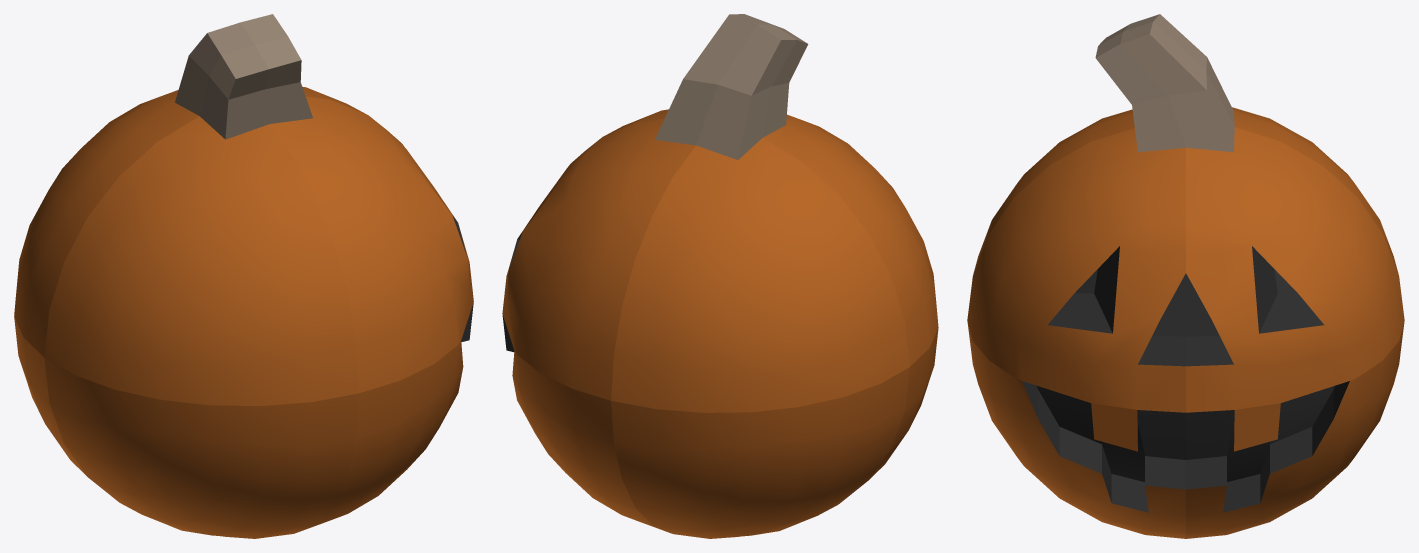
Rendered from Pumpkin.fbx.
3 views of the same model, side by side, from view 1: azimuth 30°, elevation 25°; view 2: azimuth 150°, elevation 25°; view 3: azimuth 270°, elevation 25° (orthographic). The views are drawn at different scales.
Parts seen in each view (by area): view 1: pCube35; view 2: pCube35; view 3: pCube35.
Part boxes in pixels (box(x1,y1,x2,y2)): pCube35: box(14, 14, 473, 538); pCube35: box(502, 14, 938, 538); pCube35: box(967, 14, 1404, 538).
Bounding box in the file's own units: 1 × 1.23 × 1.
